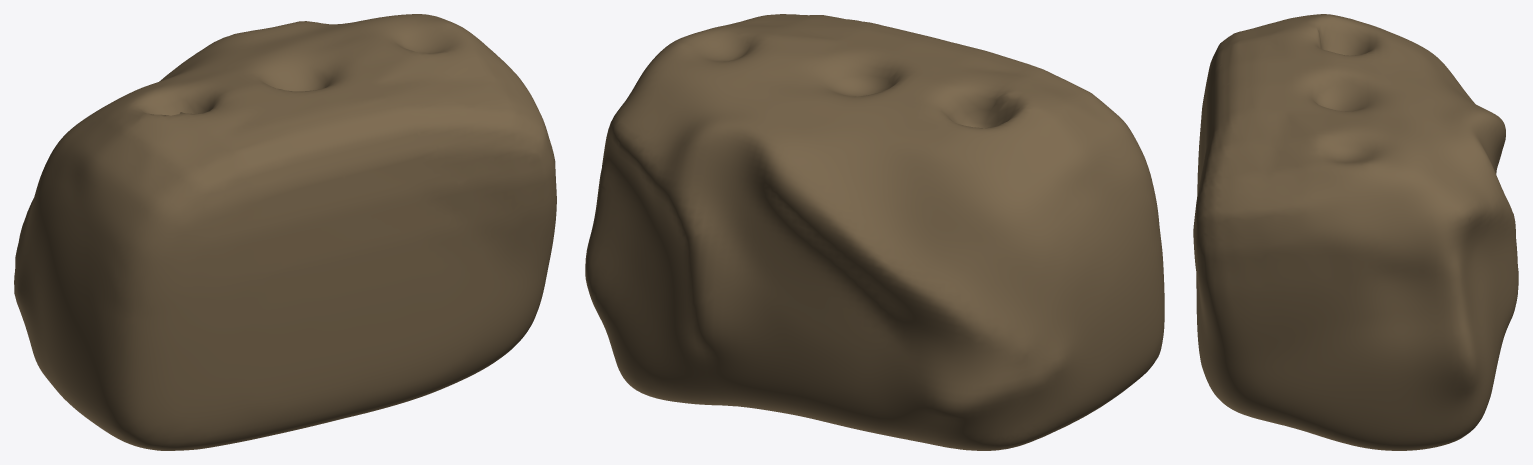
The model's file is pigmentHolder.fbx.
3 views of the same model, side by side, from view 1: azimuth 30°, elevation 25°; view 2: azimuth 150°, elevation 25°; view 3: azimuth 270°, elevation 25° (orthographic). The views are drawn at different scales.
Visible parts, largest first — view 1: Cube.001; view 2: Cube.001; view 3: Cube.001.
Part boxes in pixels (bbox=[...]): Cube.001: bbox=[14, 14, 556, 450]; Cube.001: bbox=[585, 14, 1164, 450]; Cube.001: bbox=[1193, 14, 1518, 450].
Bounding box in the file's own units: 320 × 210 × 213.
